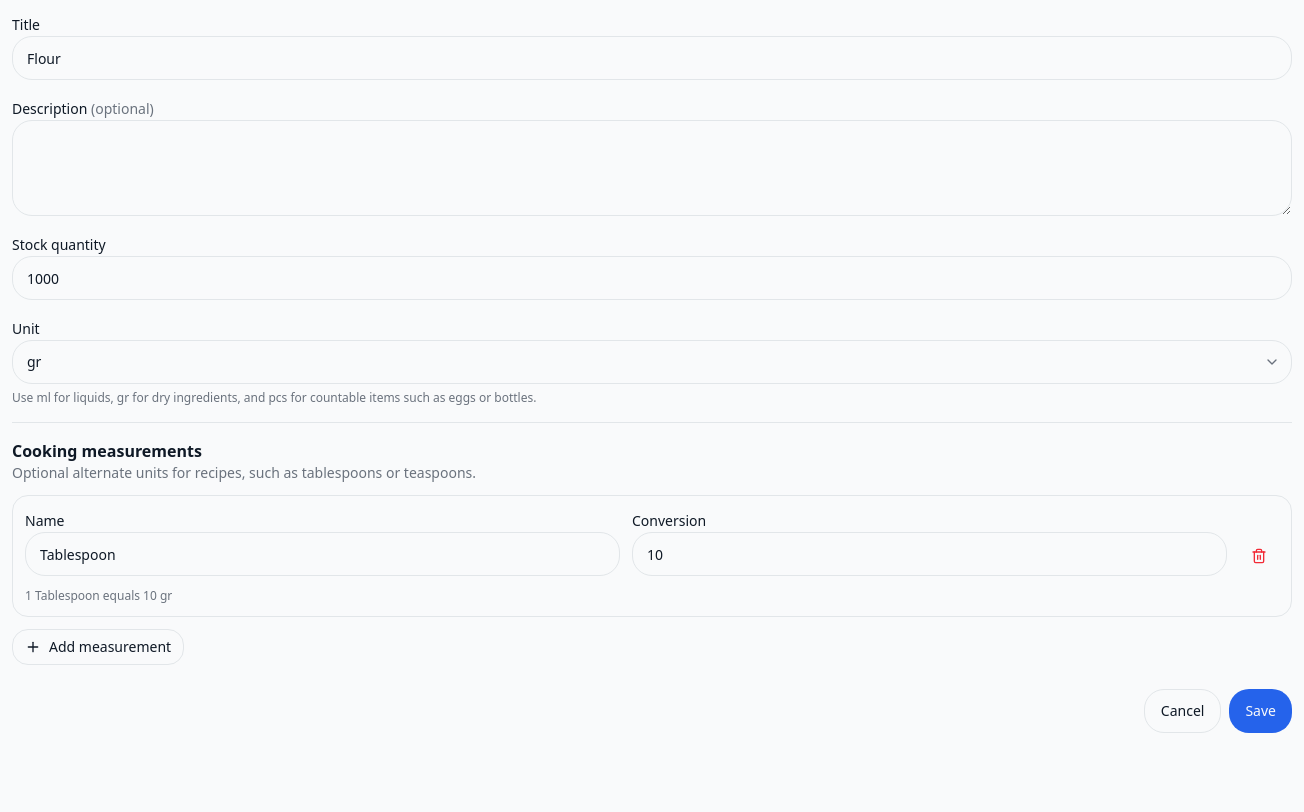
Scenario: FoodSupplyForm › updates conversion helper text when unit changes
The image size is (1304, 812).
Expected: the text "1 Tablespoon equals 10 gr" is shown, [25, 587, 172, 604]
Step 1. Select "ml" in the dropdown labelled "Unit" → (652, 362), box [12, 340, 1292, 384]
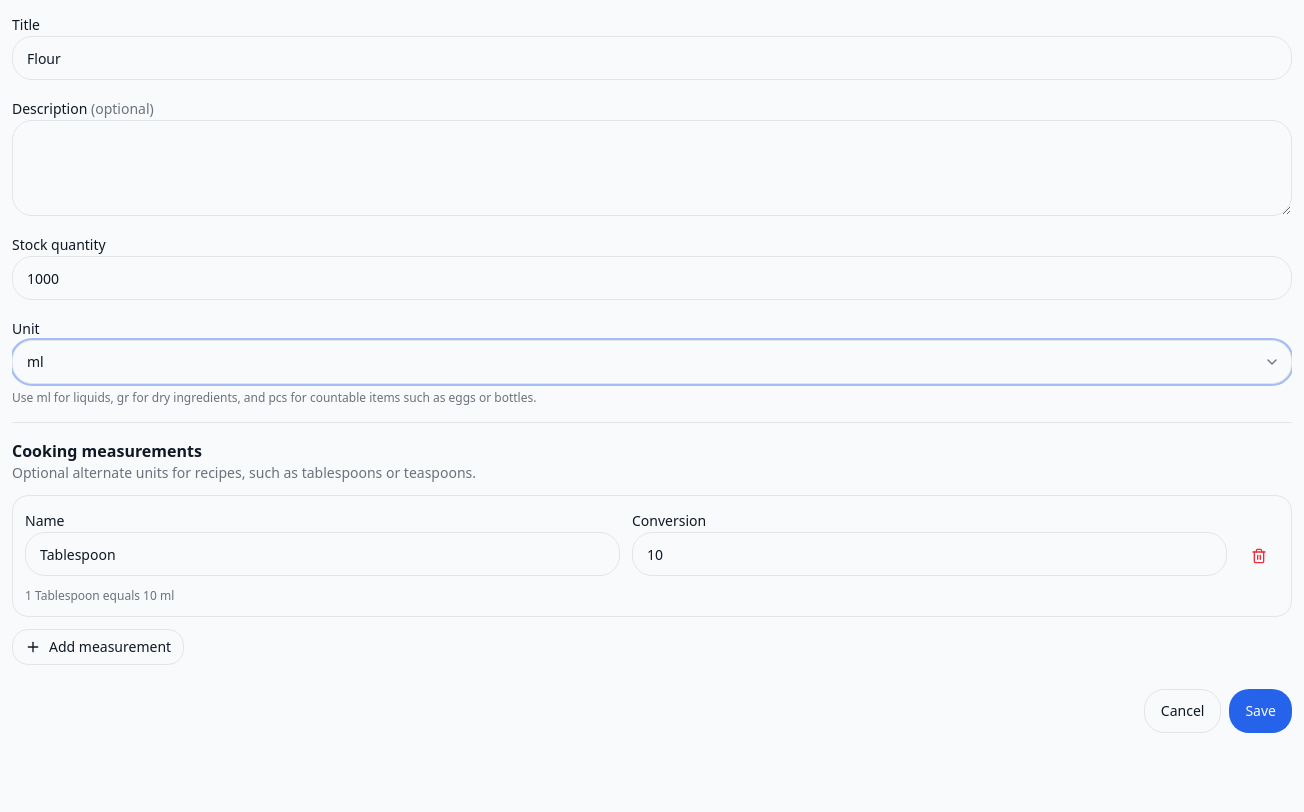
Expected: the text "1 Tablespoon equals 10 ml" is shown, [25, 587, 174, 604]
